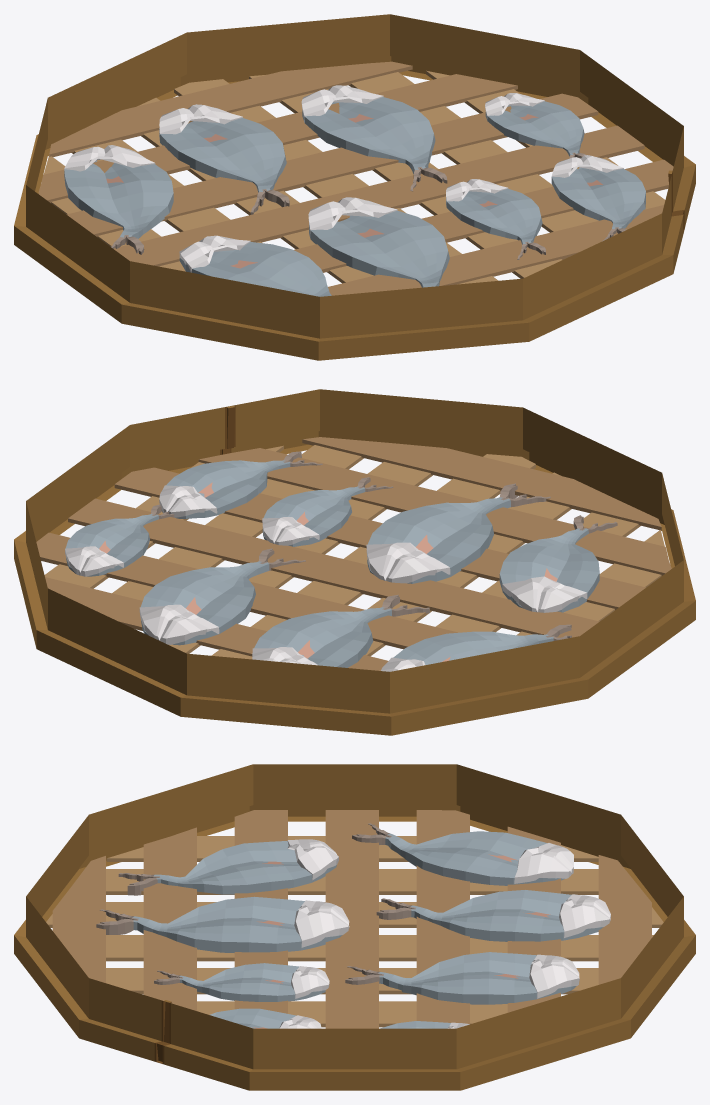
Rendered from KhengTakPla with pla.glb.
The picture shows the model from 3 angles, top to bottom: view 1: azimuth 30°, elevation 25°; view 2: azimuth 150°, elevation 25°; view 3: azimuth 270°, elevation 25°; orthographic projection. The views are drawn at different scales.
Parts seen in each view (by area): view 1: Cylinder, Cube.001, Cube.007; view 2: Cylinder, Cube.001, Cube.007; view 3: Cylinder, Cube.001, Cube.007.
Boxes of the visible parts, x1,y1,x2,y2 form: Cylinder: [14, 14, 695, 360]; Cube.001: [38, 61, 673, 295]; Cube.007: [64, 85, 645, 296]; Cylinder: [14, 389, 695, 735]; Cube.001: [36, 437, 671, 670]; Cube.007: [65, 451, 617, 671]; Cylinder: [14, 764, 695, 1090]; Cube.001: [46, 810, 663, 1028]; Cube.007: [96, 823, 610, 1028].
Size of the model in its own units: 1.21 by 0.1187 by 1.28.
